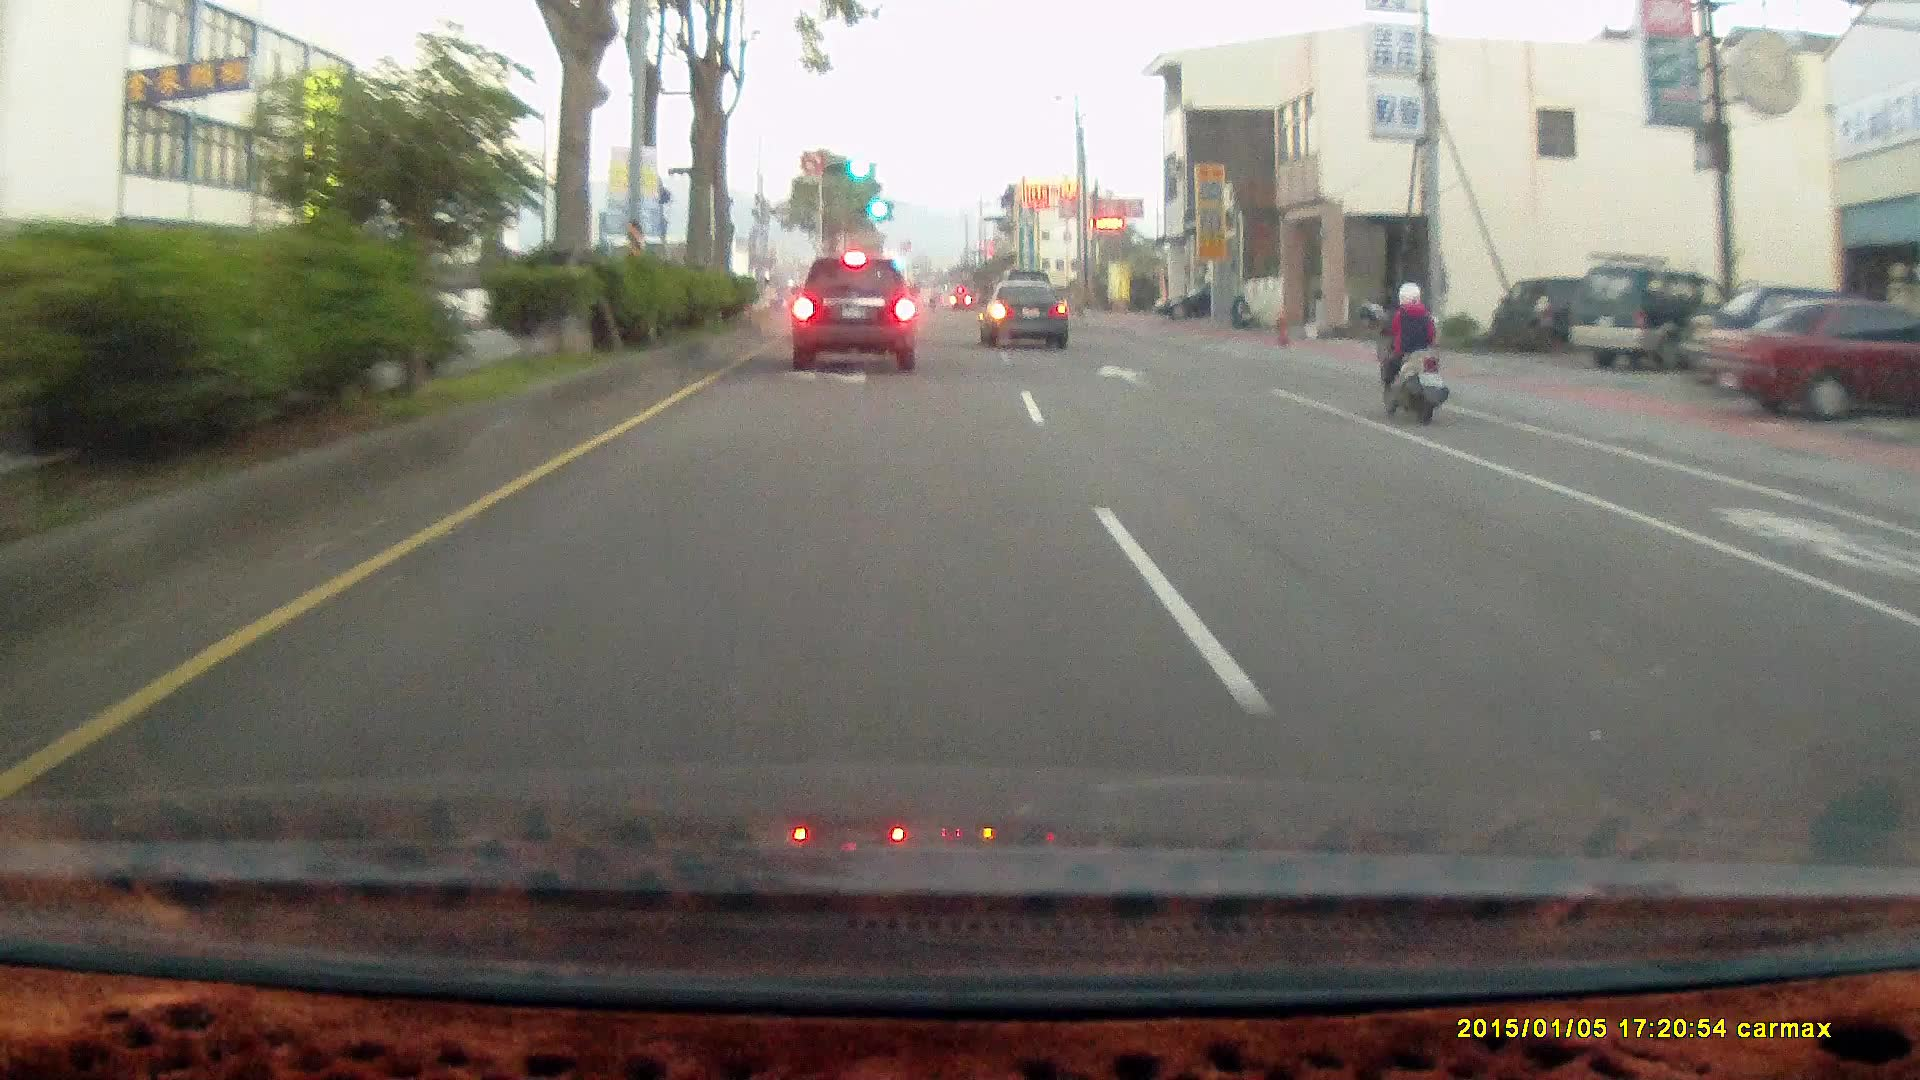rider: (1359, 267, 1463, 438), (1371, 281, 1448, 424)
vehicle: (1695, 297, 1920, 424), (1566, 266, 1734, 378), (1565, 266, 1736, 374), (790, 253, 919, 372), (796, 253, 921, 372), (1491, 278, 1597, 352), (980, 284, 1074, 350), (980, 280, 1068, 347), (1152, 285, 1246, 320), (1152, 287, 1213, 323)
